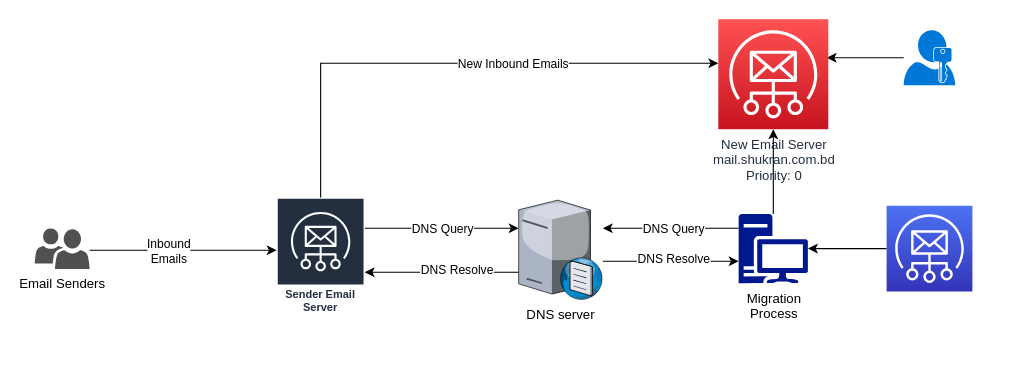
Some shapes in this 1012 by 365 pixel diagram are drawn without their labels. The shapes that lost their labels are listed below. From the top down, each one's box as (x1, y1, x2, y2) in pixels, then its label:
(903, 30, 955, 85): Users/Shukran
(886, 205, 972, 292): Current Email Server outlook.office365.com priority: 15
